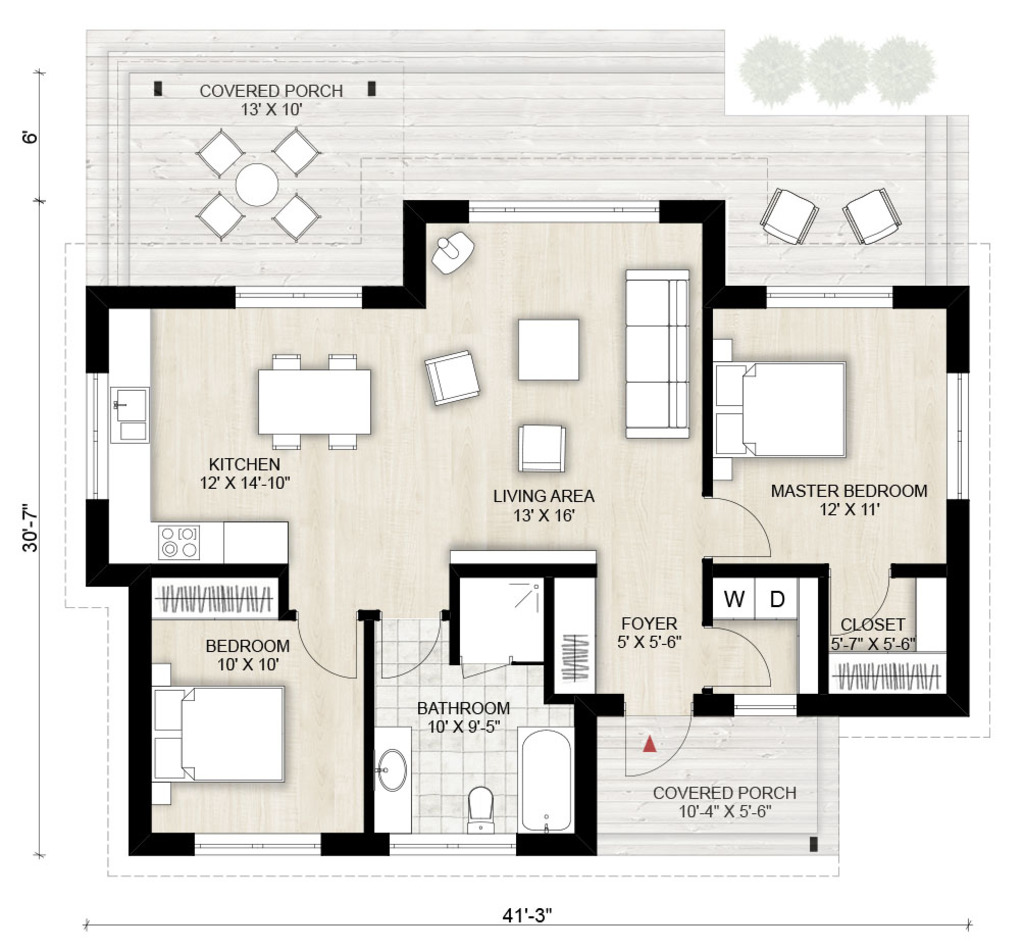bed: (712, 359, 848, 462), (153, 685, 286, 785)
dining_table: (257, 349, 372, 454)
door: (619, 701, 699, 783), (708, 491, 774, 562), (698, 624, 772, 687), (293, 613, 357, 678), (379, 614, 444, 676)
large_sink: (462, 780, 498, 834)
large_sofa: (622, 267, 690, 445)
small_sink: (370, 728, 415, 807)
small_sofa: (760, 187, 821, 244), (845, 190, 902, 247), (426, 349, 480, 406), (516, 422, 567, 476), (271, 129, 318, 176), (192, 131, 243, 174), (275, 189, 318, 239), (197, 192, 241, 240)
tub: (514, 725, 581, 833)
twin_sink: (108, 386, 147, 443)
windows: (466, 199, 660, 226), (763, 284, 913, 312), (83, 375, 113, 509), (232, 283, 365, 313), (188, 832, 319, 858), (947, 371, 969, 503), (735, 694, 797, 717)
